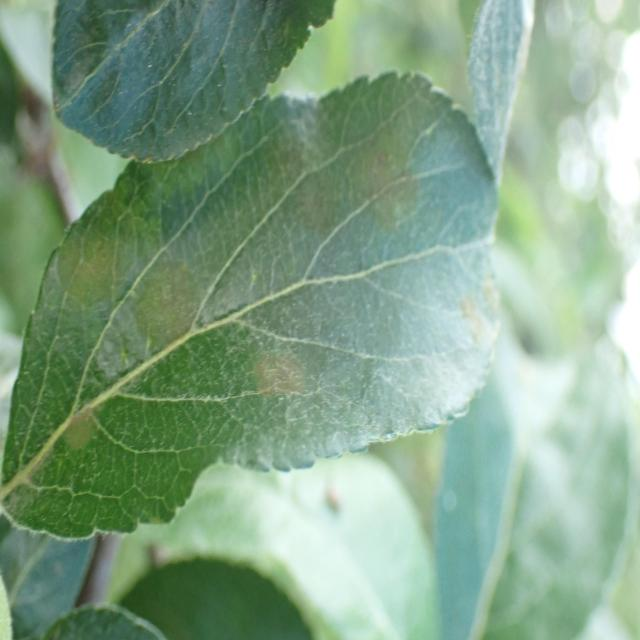scab: (14, 161, 502, 512)
